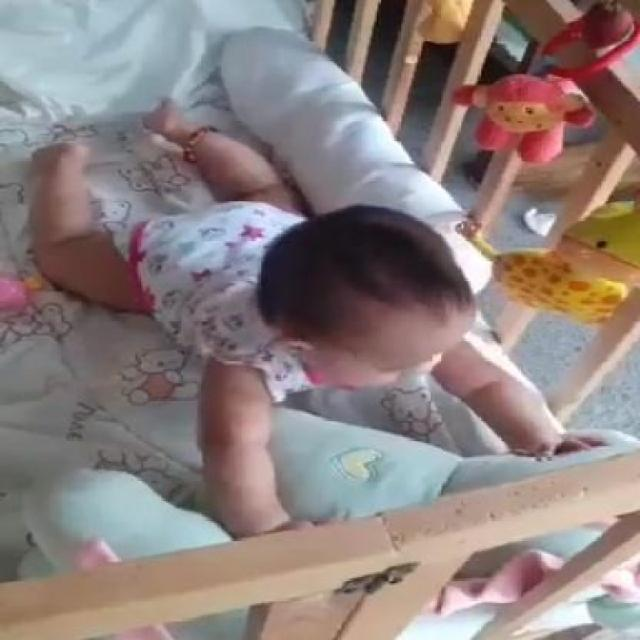baby: (29, 102, 558, 540)
